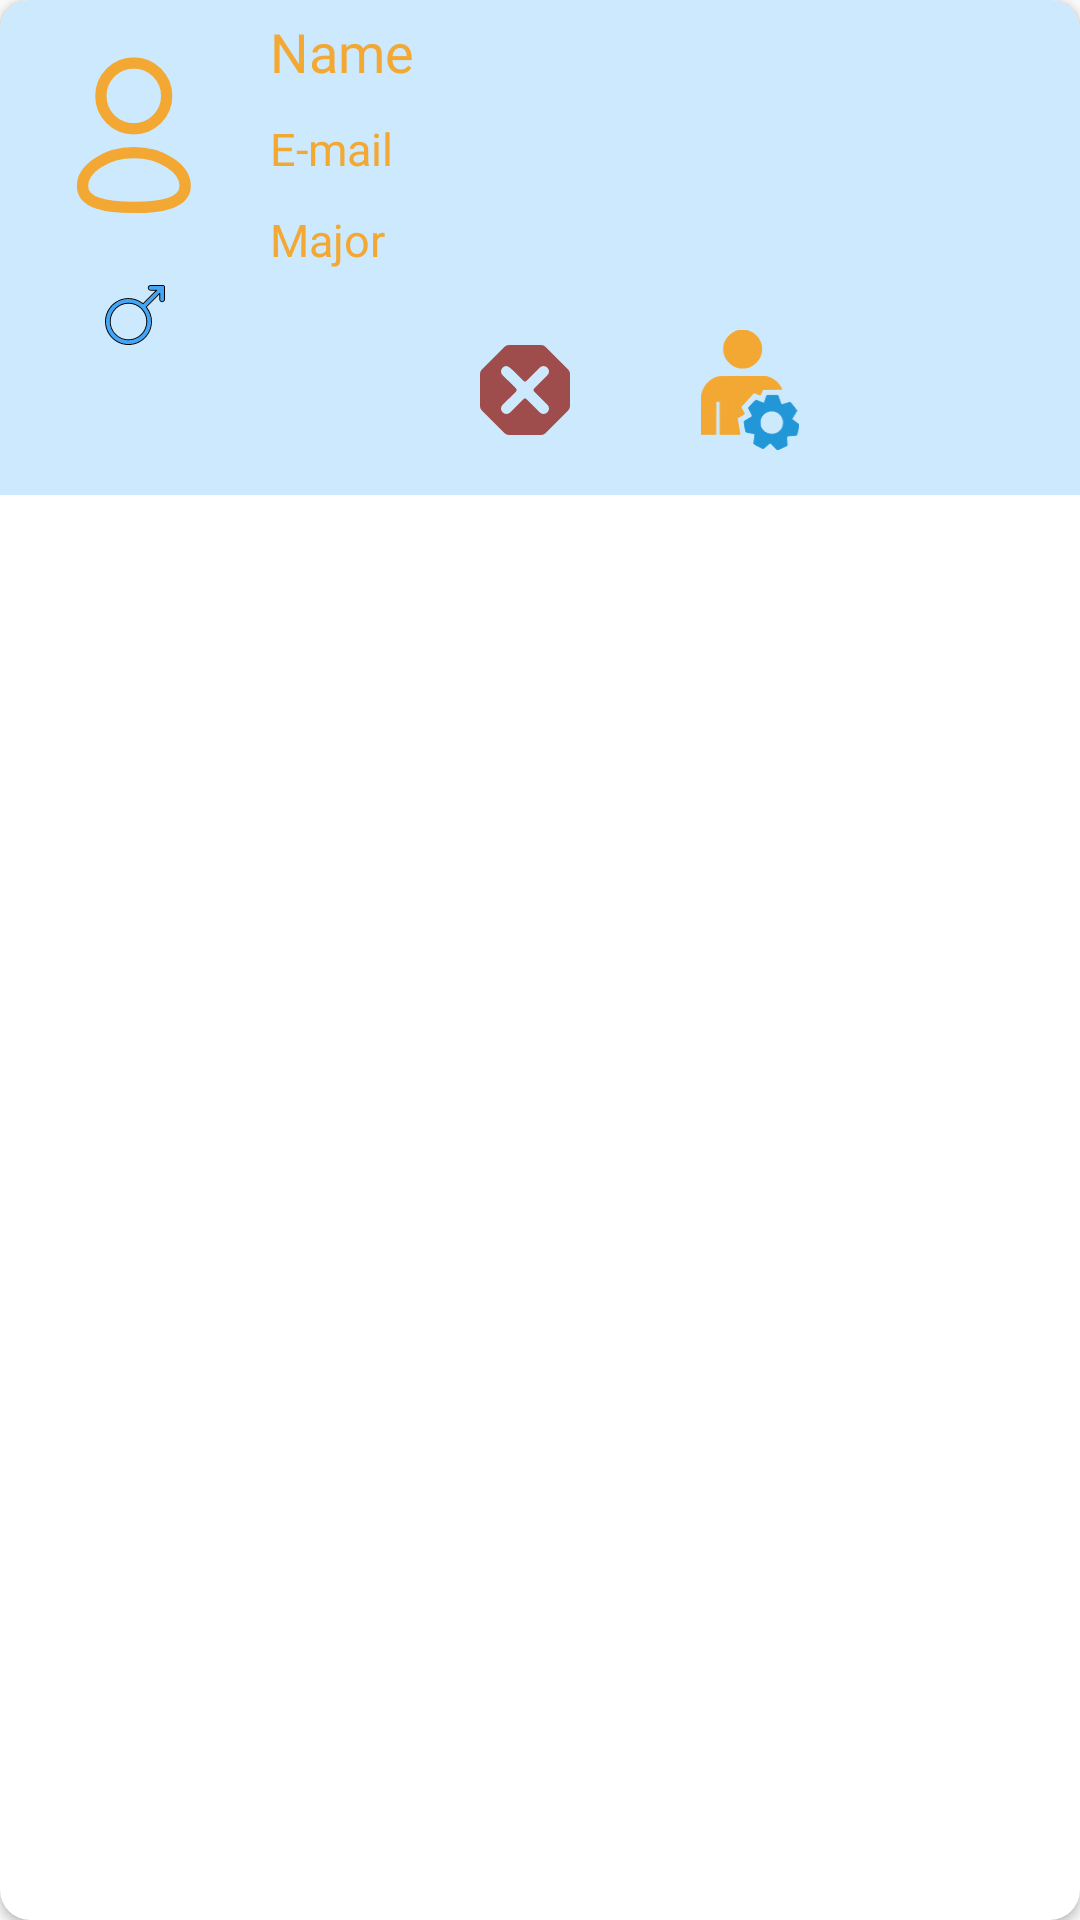

Named icons in this screenshot (1080w x 1920h) and their bounding boxes, Rect(x1, y1, x2, y2):
male: Rect(105, 285, 165, 345)
moderator: Rect(701, 330, 799, 450)
profile: Rect(77, 57, 191, 213)
reject: Rect(480, 345, 570, 435)
